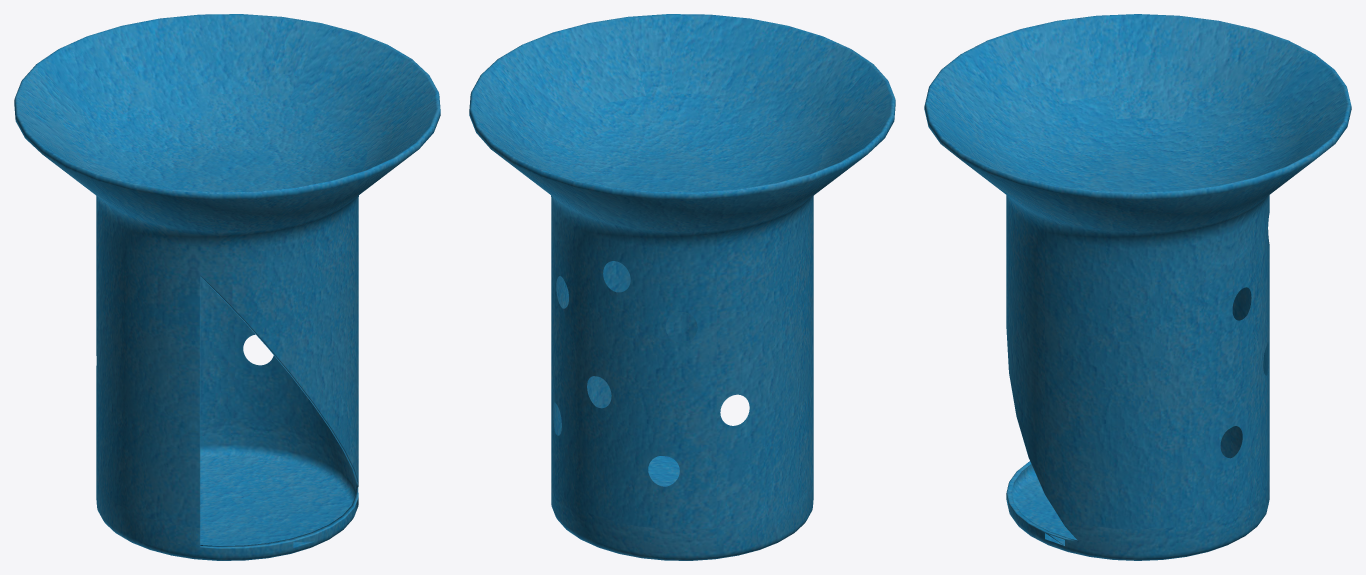
File: Diffuser_Bamboo.obj
3 renders of one model, left to right at view 1: azimuth 30°, elevation 25°; view 2: azimuth 150°, elevation 25°; view 3: azimuth 270°, elevation 25°, orthographic.
Parts seen in each view (by area): view 1: Cylinder_Cylinder_Material.001; view 2: Cylinder_Cylinder_Material.001; view 3: Cylinder_Cylinder_Material.001.
Part boxes in pixels (x1=…): Cylinder_Cylinder_Material.001: x1=14, y1=14, x2=440, y2=560; Cylinder_Cylinder_Material.001: x1=469, y1=14, x2=895, y2=560; Cylinder_Cylinder_Material.001: x1=924, y1=14, x2=1351, y2=560.
Size of the model in its own units: 19.13 by 20 by 19.13.
Materials: 1 (1 with a texture image).
